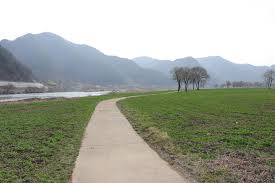field: (4, 95, 274, 183)
mountain: (4, 33, 275, 87)
tree: (170, 63, 211, 91)
